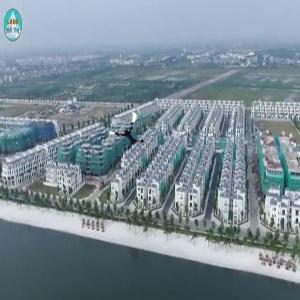drone: (109, 115, 148, 154)
